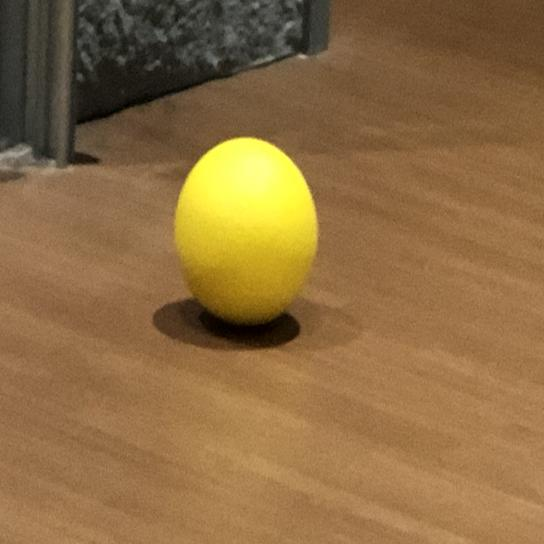ball: (168, 132, 322, 328)
